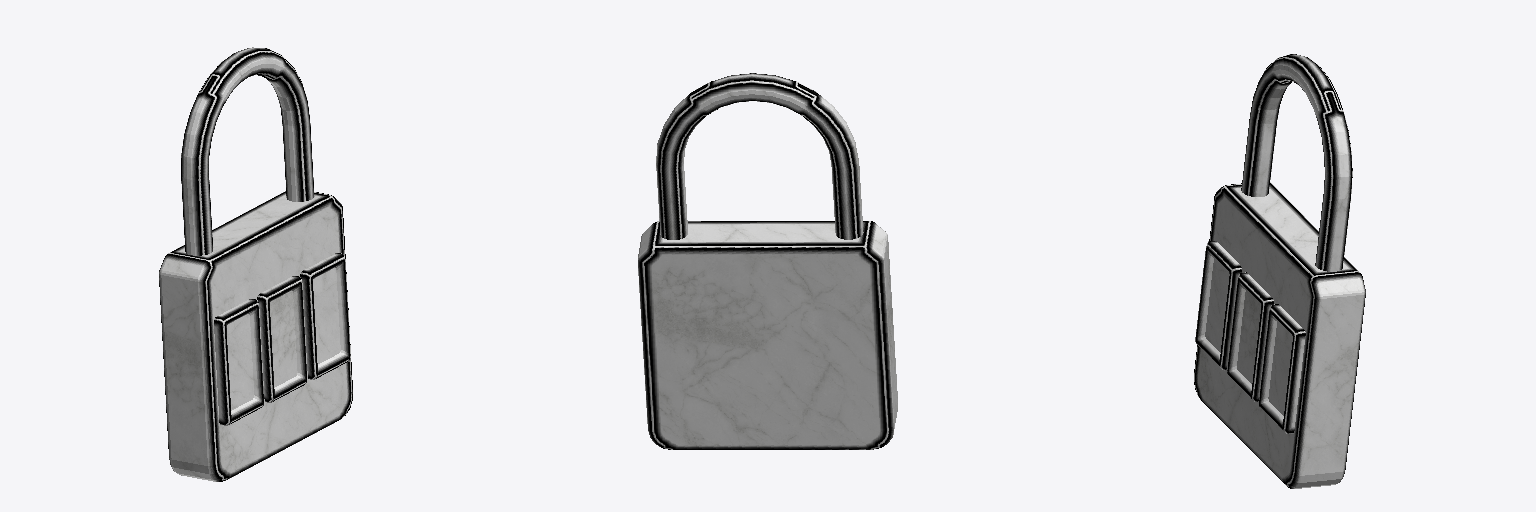
3 views of the same model, side by side, from view 1: azimuth 30°, elevation 25°; view 2: azimuth 150°, elevation 25°; view 3: azimuth 270°, elevation 25° (orthographic).
Parts seen in each view (by area): view 1: pCube4, pCube4 pCube8, pCube4 pTorus7; view 2: pCube4, pCube4 pTorus7; view 3: pCube4, pCube4 pCube8, pCube4 pTorus7.
Boxes of the visible parts, x1=… form: pCube4: x1=159, y1=191, x2=352, y2=481; pCube4 pCube8: x1=214, y1=253, x2=350, y2=425; pCube4 pTorus7: x1=181, y1=47, x2=314, y2=255; pCube4: x1=638, y1=221, x2=897, y2=449; pCube4 pTorus7: x1=656, y1=73, x2=863, y2=239; pCube4: x1=1194, y1=182, x2=1365, y2=488; pCube4 pCube8: x1=1195, y1=241, x2=1305, y2=433; pCube4 pTorus7: x1=1241, y1=54, x2=1352, y2=271.
Bounding box in the file's own units: 33.82 × 58.68 × 23.79.
1 materials, 1 textured.